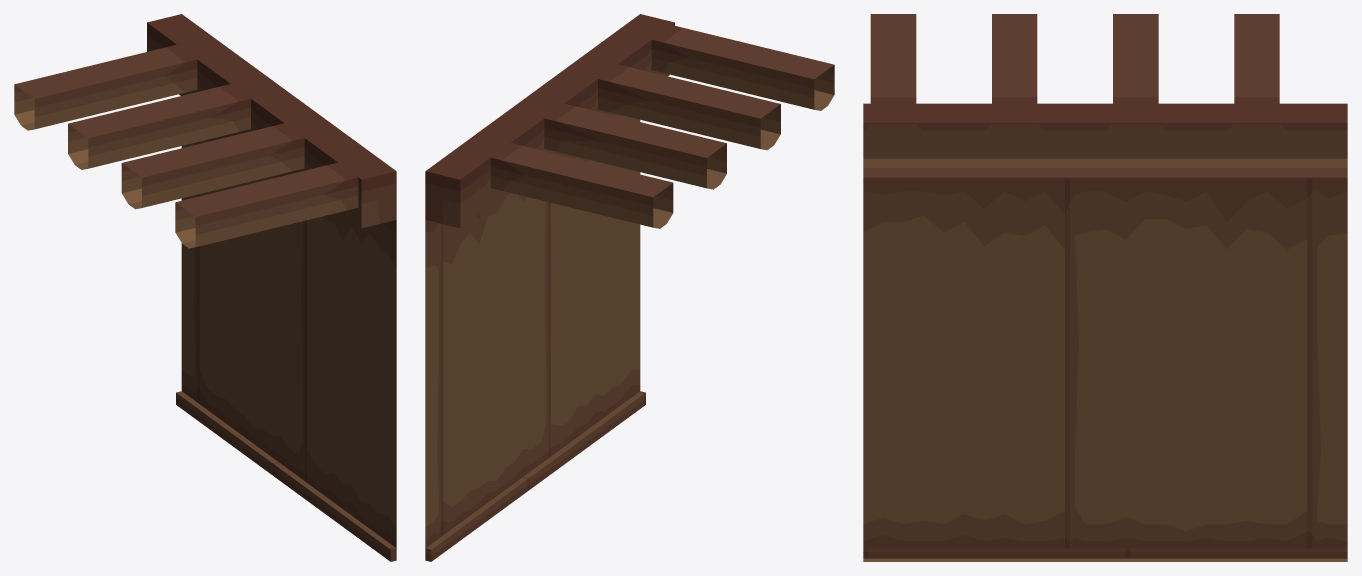
File: workshopWall.fbx
3 renders of one model, left to right at view 1: azimuth 30°, elevation 25°; view 2: azimuth 150°, elevation 25°; view 3: azimuth 270°, elevation 25°, orthographic. The views are drawn at different scales.
Visible parts, largest first — view 1: wall, ceilingBeams, ceilingBeamsBase; view 2: wall, ceilingBeams, ceilingBeamsBase; view 3: wall, ceilingBeams, ceilingBeamsBase.
Part boxes in pixels (x1,y1,x2,y2): wall: [147, 14, 396, 561]; ceilingBeams: [14, 59, 297, 248]; ceilingBeamsBase: [116, 44, 358, 222]; wall: [425, 14, 674, 561]; ceilingBeams: [551, 40, 834, 228]; ceilingBeamsBase: [490, 25, 732, 202]; wall: [863, 103, 1347, 561]; ceilingBeams: [870, 14, 1279, 69]; ceilingBeamsBase: [870, 70, 1279, 103].
Size of the model in its own units: 425 by 800 by 800.
Materials: 1 (1 with a texture image).
